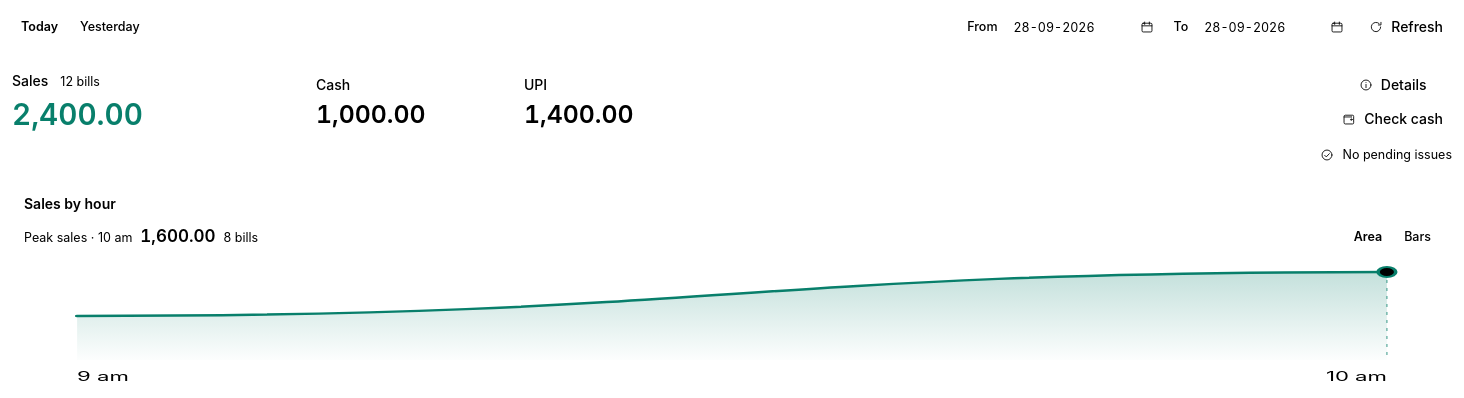
Test case: clears old figures and avoids a request for a missing or reversed date range
The width and height of the screenshot is (1464, 398).
Expected: the text "2,400.00" is shown, [12,96,143,132]
Replace the text in the field labelled "From" with "2026-09-30" at (1082, 27), box [1002,12,1162,42]
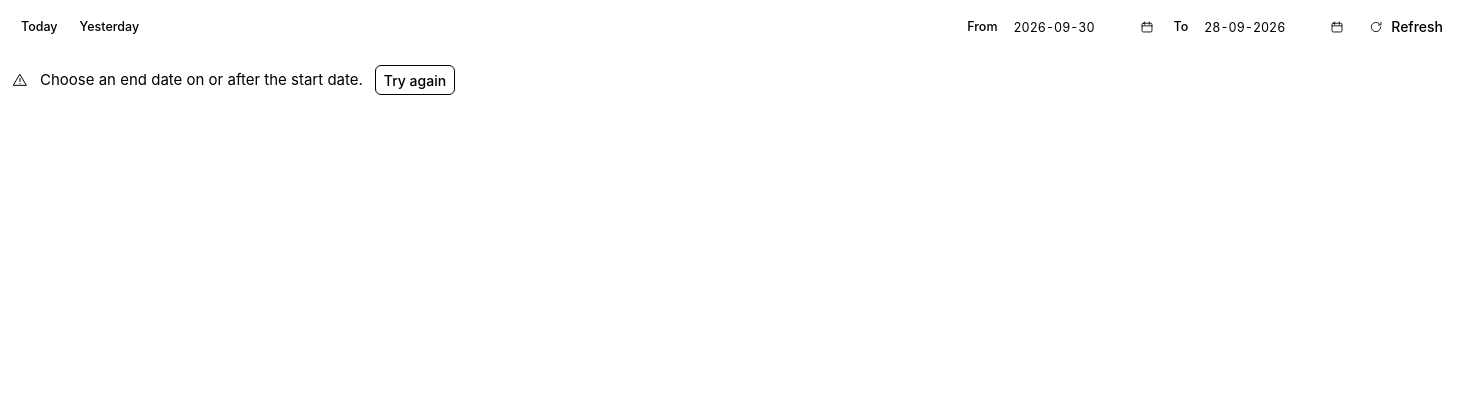
Result: the text "Choose an end date on or after the start date." is shown at [40,69,363,92]
Result: the text "2,400.00" is gone
Clear the field labelled "From" at (1082, 27), box [1002,12,1162,42]
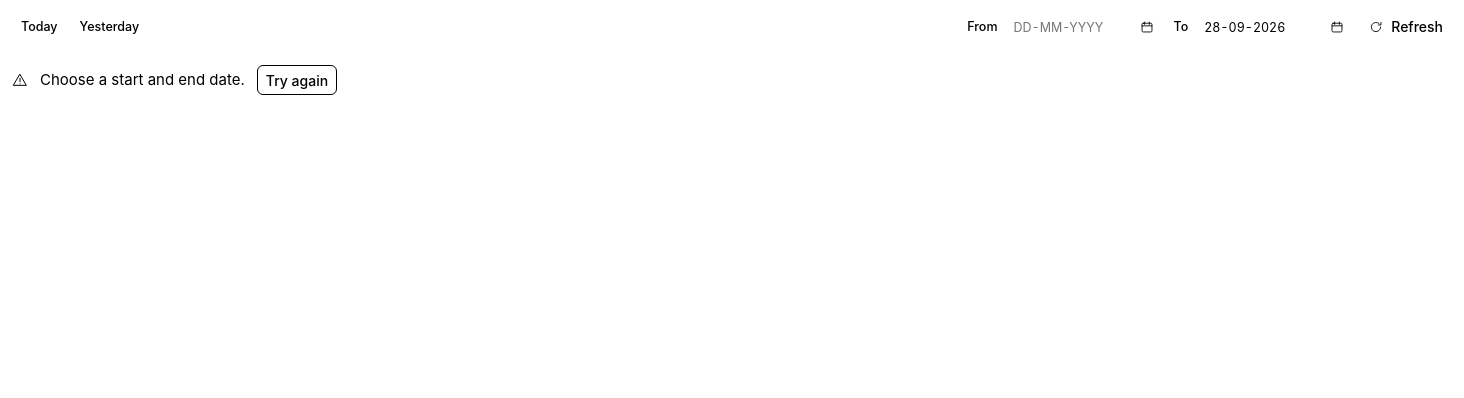
Result: the text "Choose a start and end date." is shown at [40,69,245,92]
